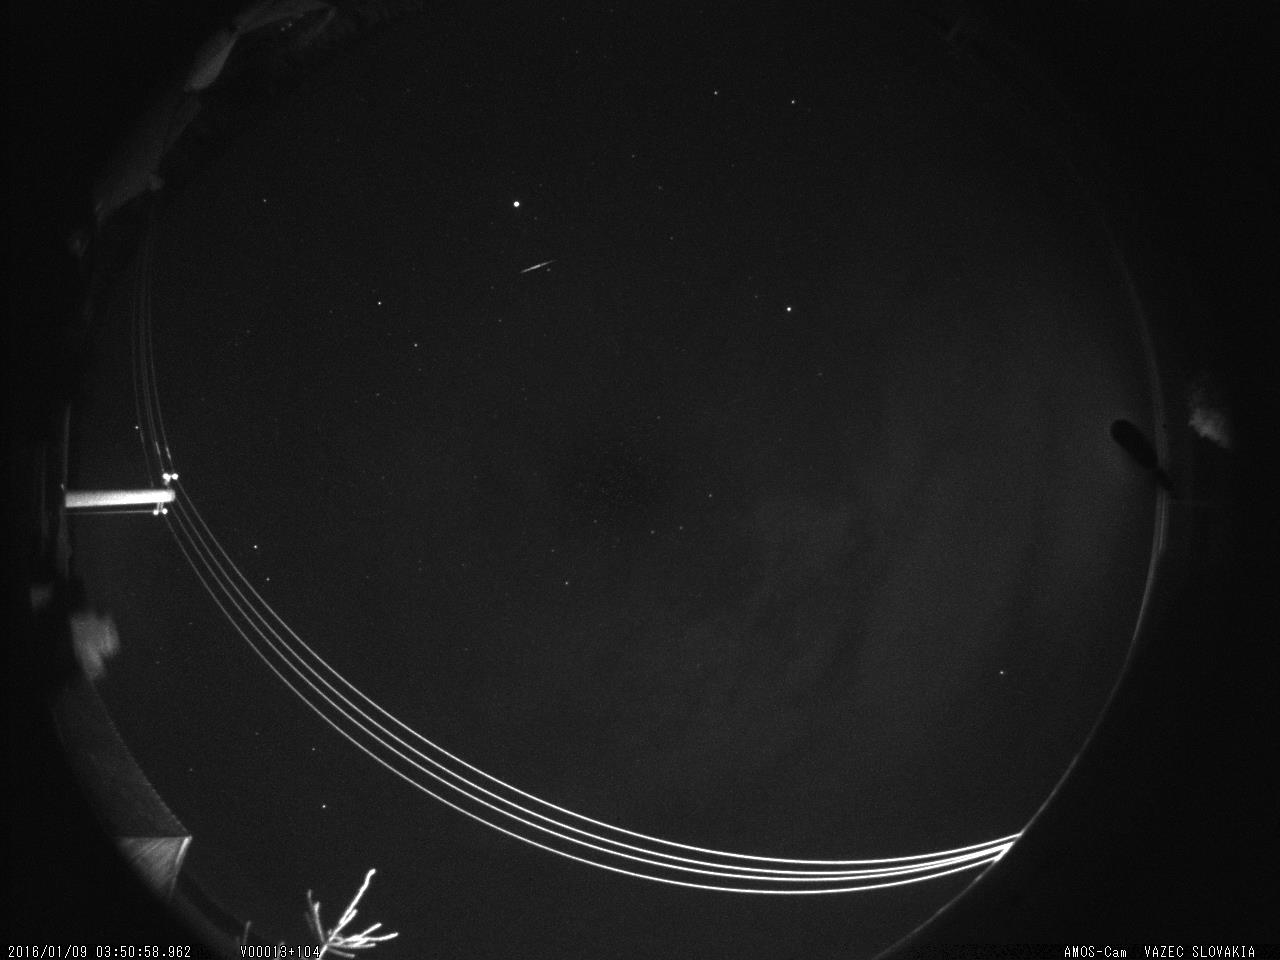meteor: (511, 249, 560, 282)
